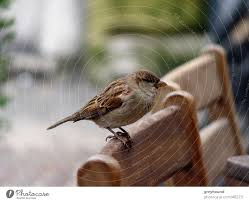hsparrow: (42, 63, 170, 152)
